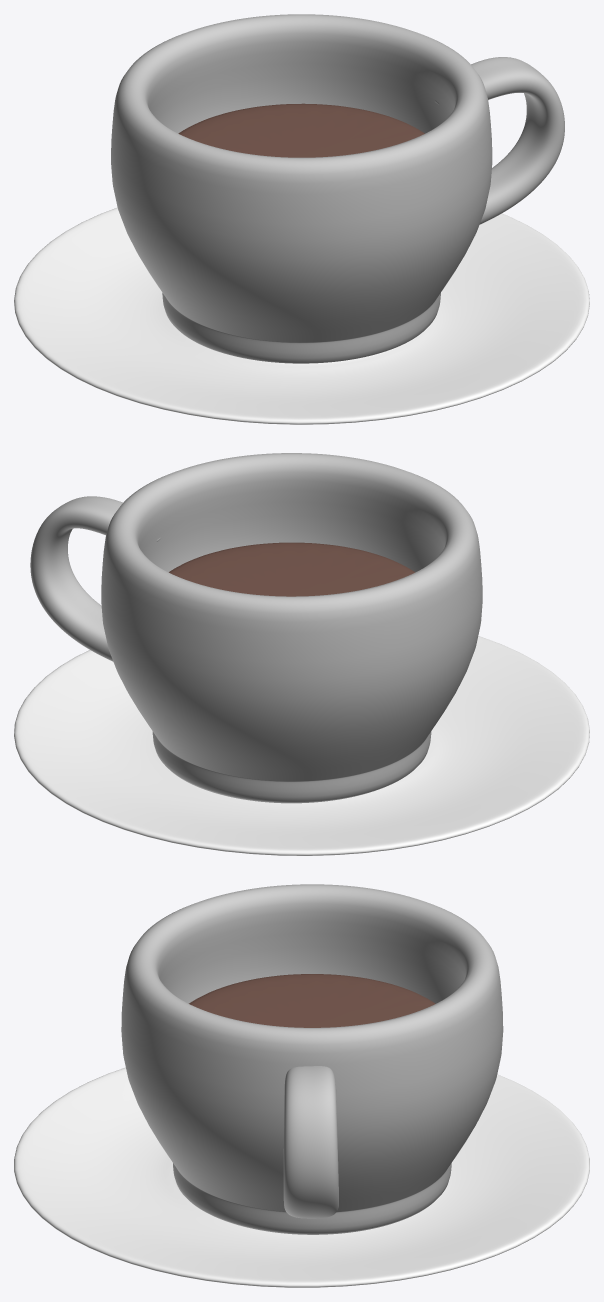
The model's file is cofee.fbx.
The picture shows the model from 3 angles, top to bottom: view 1: azimuth 30°, elevation 25°; view 2: azimuth 150°, elevation 25°; view 3: azimuth 270°, elevation 25°; orthographic projection.
Parts seen in each view (by area): view 1: Circle; view 2: Circle; view 3: Circle.
Part boxes in pixels (x1,y1,x2,y2): Circle: (14,14,589,424); Circle: (14,453,589,855); Circle: (14,884,589,1287).
Size of the model in its own units: 4.19 by 1.78 by 4.1.
